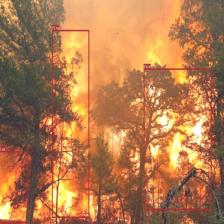fire: (144, 68, 212, 210), (52, 29, 89, 218), (0, 150, 28, 222)
